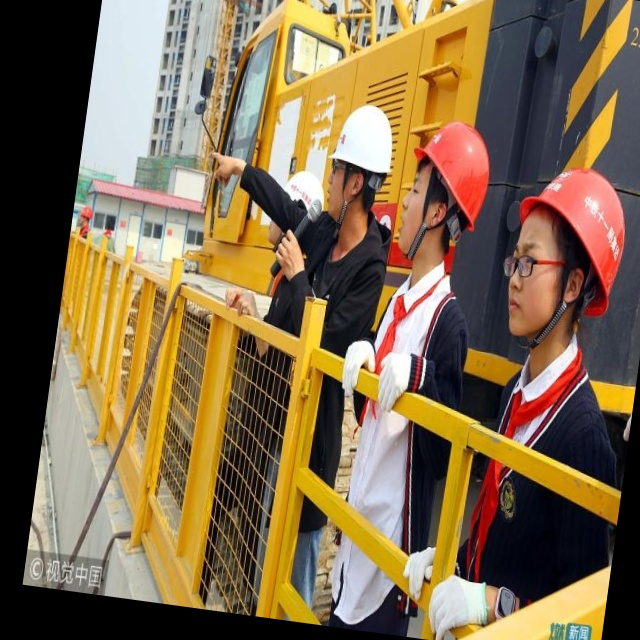Con_Casco: (395, 116, 495, 269), (326, 100, 399, 223)
Sin_Chaleco: (464, 365, 635, 610), (343, 278, 469, 602)
